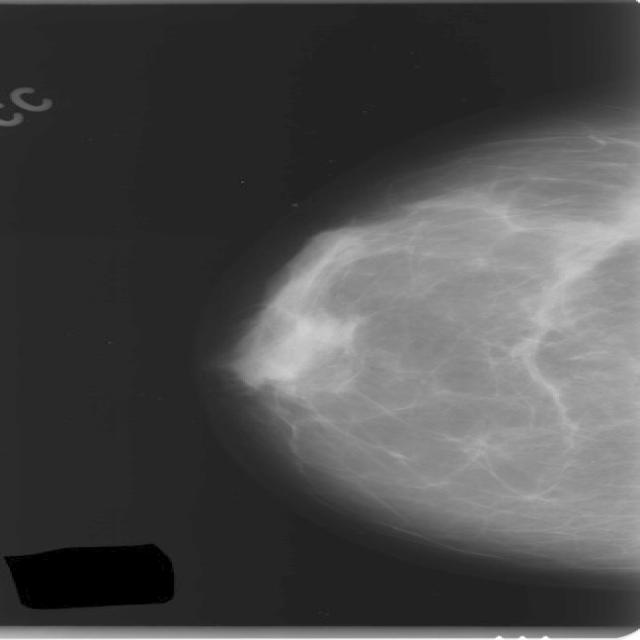tumour: (274, 223, 372, 282)
